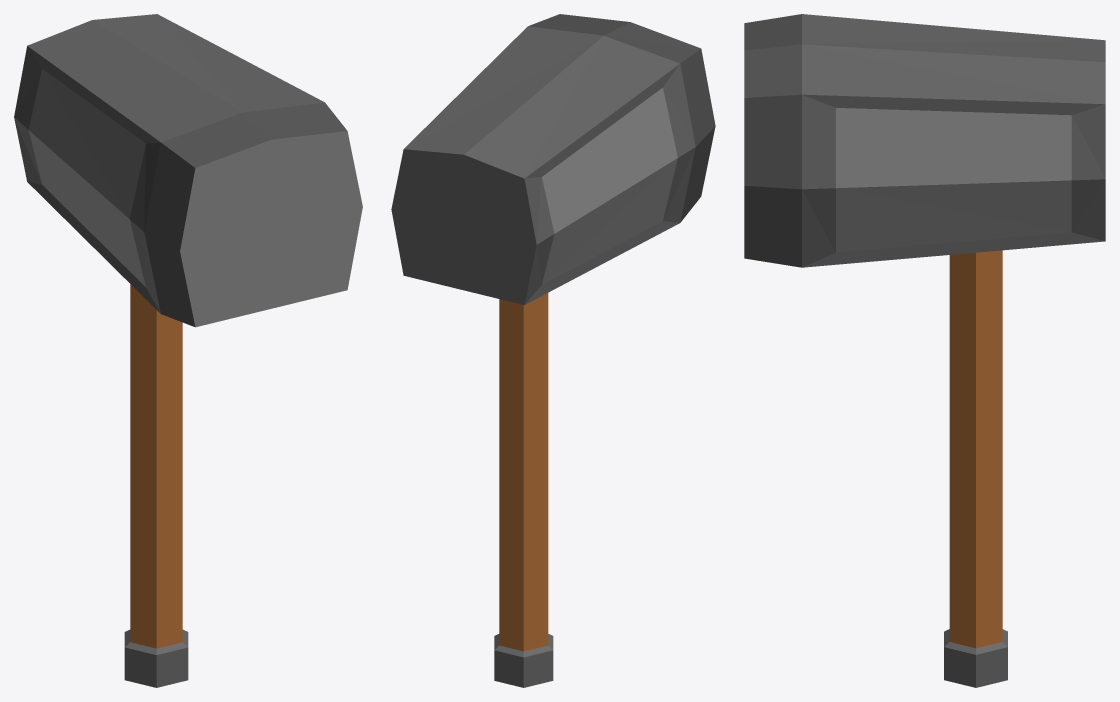
File: Hero_Hammer.fbx
The picture shows the model from 3 angles, left to right: view 1: azimuth 30°, elevation 25°; view 2: azimuth 150°, elevation 25°; view 3: azimuth 270°, elevation 25°; orthographic projection. The views are drawn at different scales.
Visible parts, largest first — view 1: Hammer Head, Hammer Stick; view 2: Hammer Head, Hammer Stick; view 3: Hammer Head, Hammer Stick.
Part boxes in pixels (left/top/right/bottom): Hammer Head: left=14, top=14, right=362, bottom=327; Hammer Stick: left=124, top=284, right=188, bottom=687; Hammer Head: left=391, top=14, right=715, bottom=304; Hammer Stick: left=494, top=293, right=553, bottom=687; Hammer Head: left=744, top=14, right=1105, bottom=267; Hammer Stick: left=944, top=250, right=1007, bottom=687.
Size of the model in its own units: 0.3756 by 1.13 by 0.5914.
